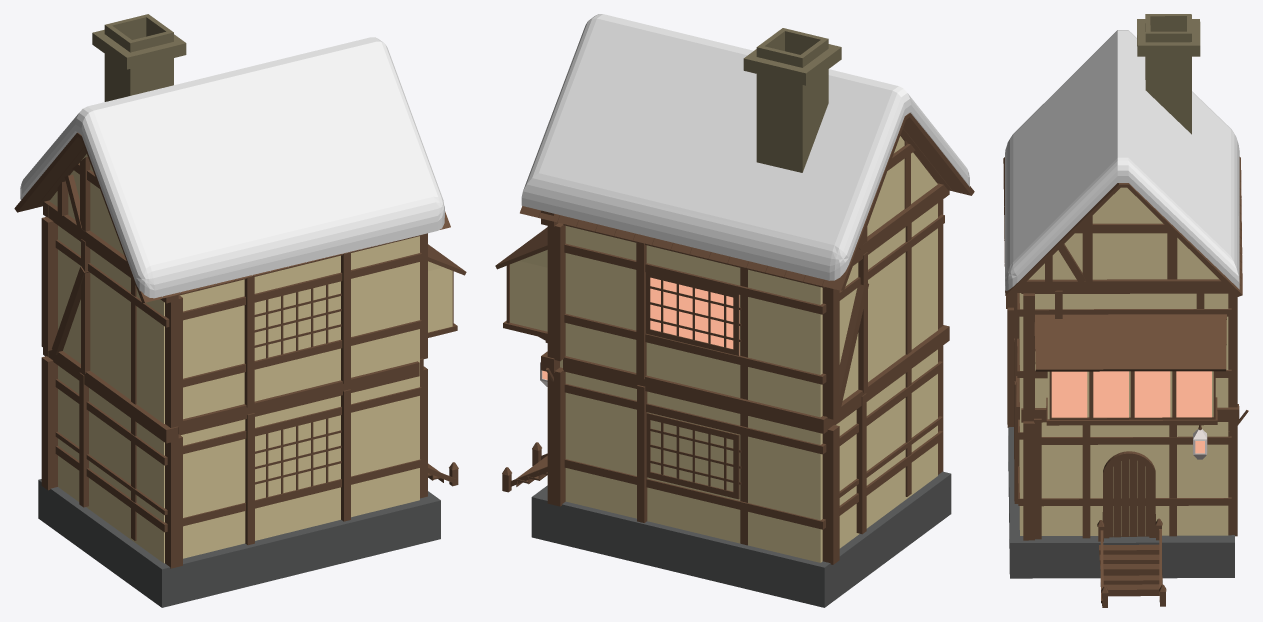
The model's file is house3.glb.
The picture shows the model from 3 angles, left to right: view 1: azimuth 30°, elevation 25°; view 2: azimuth 150°, elevation 25°; view 3: azimuth 270°, elevation 25°; orthographic projection. The views are drawn at different scales.
Parts seen in each view (by area): view 1: Cube.1295; view 2: Cube.1295; view 3: Cube.1295.
Boxes of the visible parts, x1,y1,x2,y2 form: Cube.1295: [14, 14, 466, 607]; Cube.1295: [495, 14, 974, 607]; Cube.1295: [1003, 14, 1248, 607].
Bounding box in the file's own units: 1.88 × 2.44 × 1.18.
